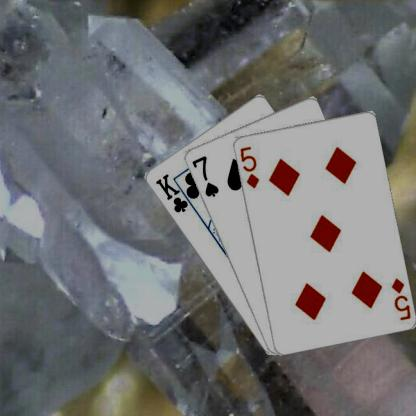5D: (388, 274, 412, 322), (237, 144, 260, 190)
7S: (188, 153, 219, 198)
KC: (152, 171, 197, 214)
